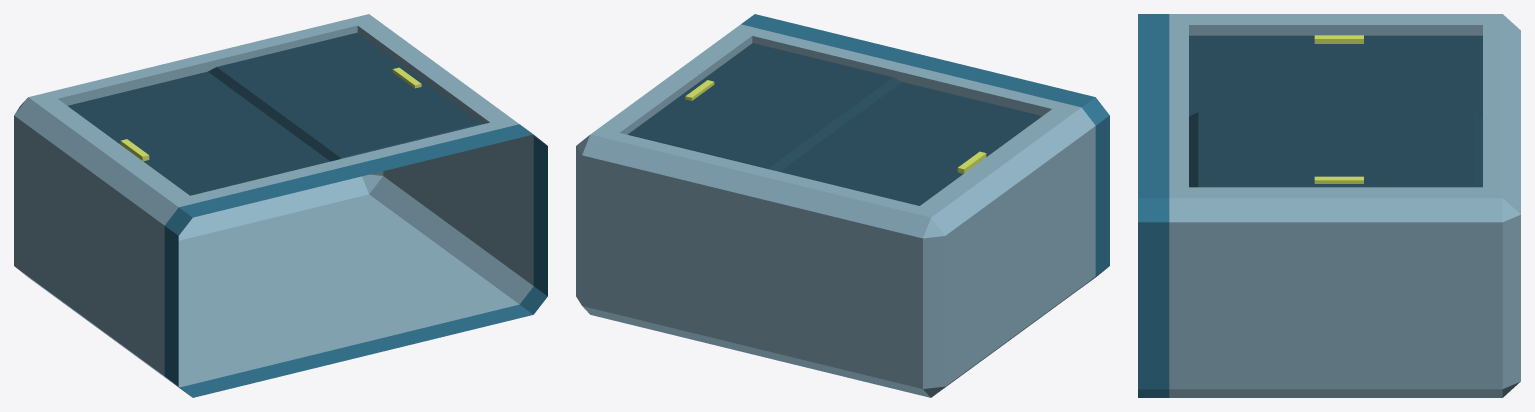
The model's file is Cabinet 05.FBX.
3 views of the same model, side by side, from view 1: azimuth 30°, elevation 25°; view 2: azimuth 150°, elevation 25°; view 3: azimuth 270°, elevation 25° (orthographic). The views are drawn at different scales.
Visible parts, largest first — view 1: Cabinet 05; view 2: Cabinet 05; view 3: Cabinet 05.
Boxes of the visible parts, bbox=[...] form: Cabinet 05: bbox=[14, 14, 547, 397]; Cabinet 05: bbox=[576, 14, 1109, 397]; Cabinet 05: bbox=[1138, 14, 1520, 397].
Size of the model in its own units: 209 by 97.8 by 170.
1 material, 1 textured.
